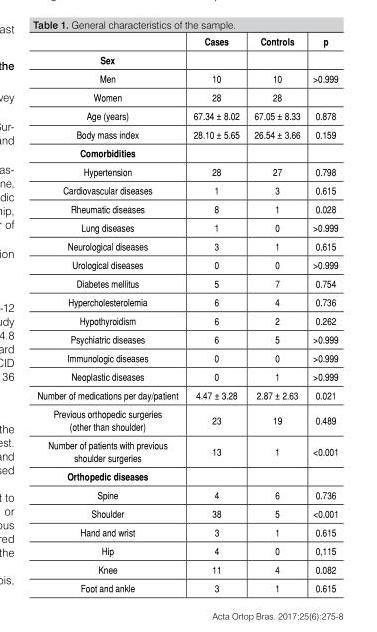table: (36, 37, 337, 593)
table column: (36, 37, 185, 593), (185, 37, 246, 593), (246, 37, 305, 593), (305, 37, 337, 593)
table column header: (36, 37, 337, 69)
table projected row header: (36, 144, 337, 163), (36, 467, 337, 486)
table row: (36, 405, 337, 436), (36, 436, 337, 467), (36, 69, 337, 88), (36, 88, 337, 107), (36, 125, 337, 144), (36, 144, 337, 163), (36, 181, 337, 200), (36, 218, 337, 237), (36, 237, 337, 256), (36, 274, 337, 293), (36, 293, 337, 312), (36, 330, 337, 349), (36, 367, 337, 386), (36, 386, 337, 405), (36, 467, 337, 486), (36, 504, 337, 523), (36, 523, 337, 542), (36, 560, 337, 579), (36, 51, 337, 69), (36, 107, 337, 125), (36, 163, 337, 181), (36, 200, 337, 218), (36, 256, 337, 274), (36, 312, 337, 330), (36, 349, 337, 367), (36, 486, 337, 504), (36, 542, 337, 560), (36, 37, 337, 51), (36, 579, 337, 593)
table spanning cell: (36, 37, 185, 69), (185, 37, 246, 69), (246, 37, 305, 69), (305, 37, 337, 69)
